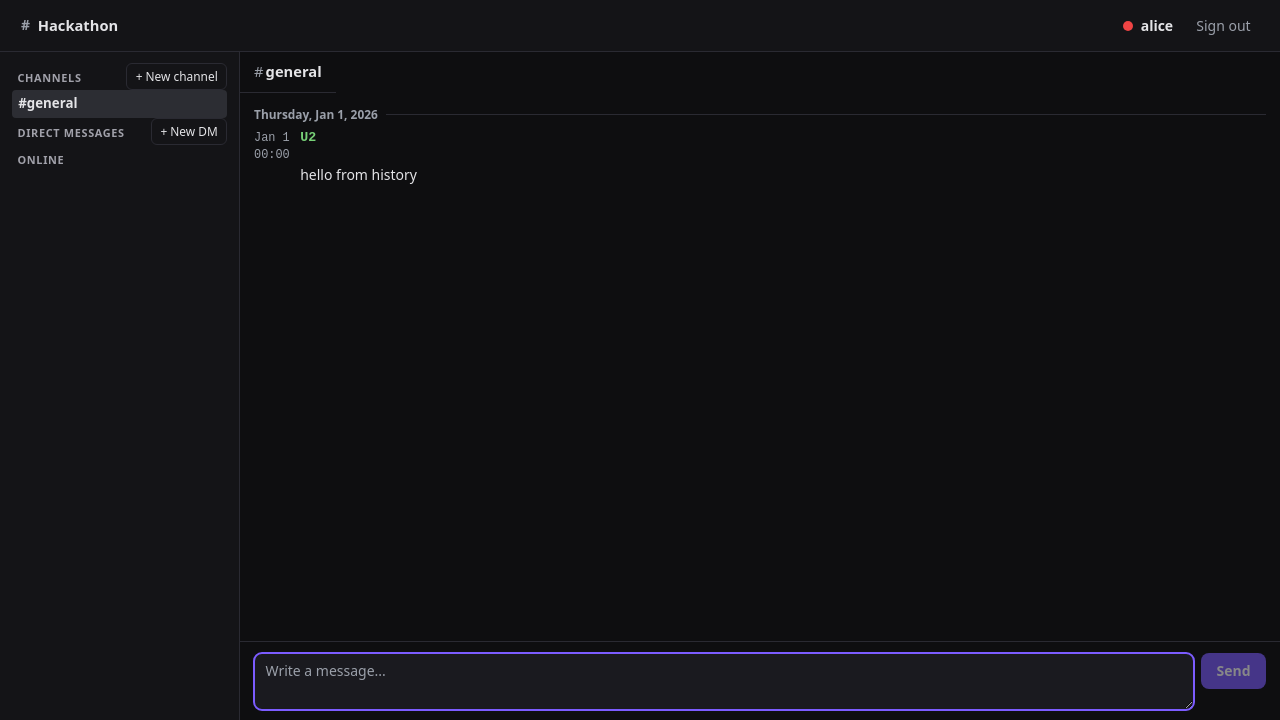
Test: test_web_composer_failed_message_badge_renders_on_post_failure › post failure surfaces the failed badge with retry control
Step 1. Type "doomed" into the text box labelled "message" → coordinates (724, 681), box [254,653,1194,710]
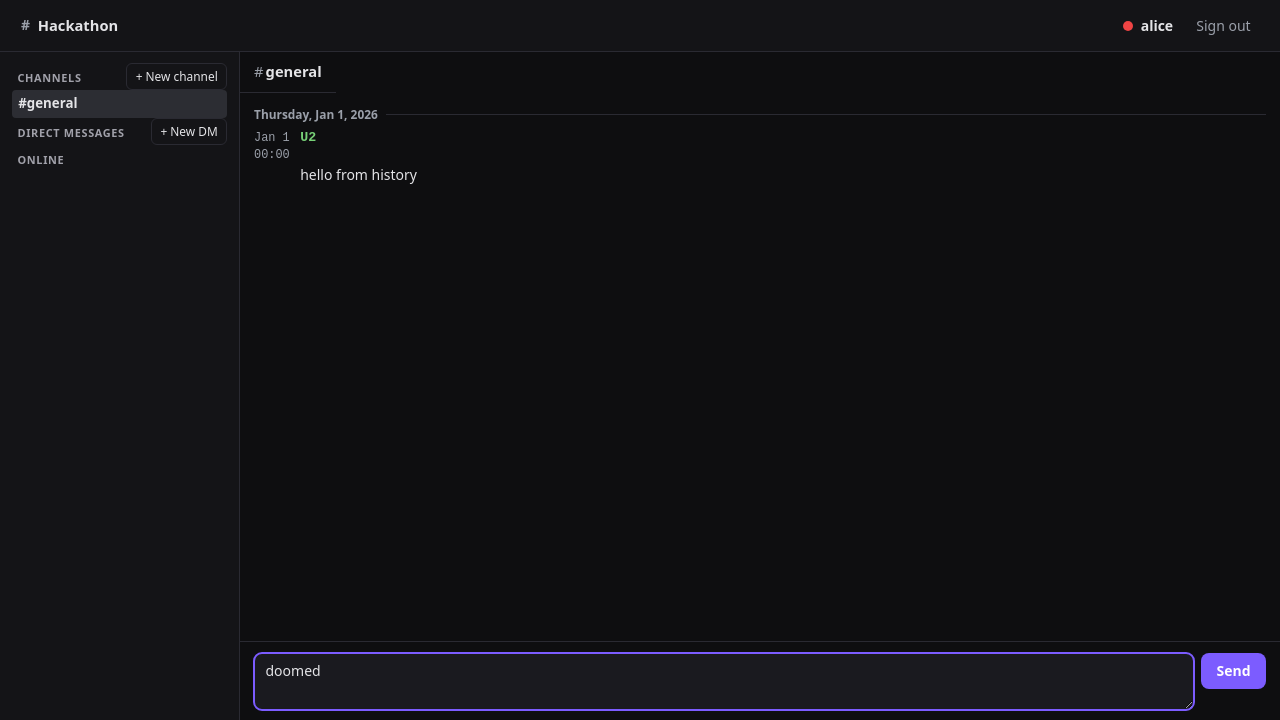
Step 2. Press Enter in the text box named "message", box [254,653,1194,710]
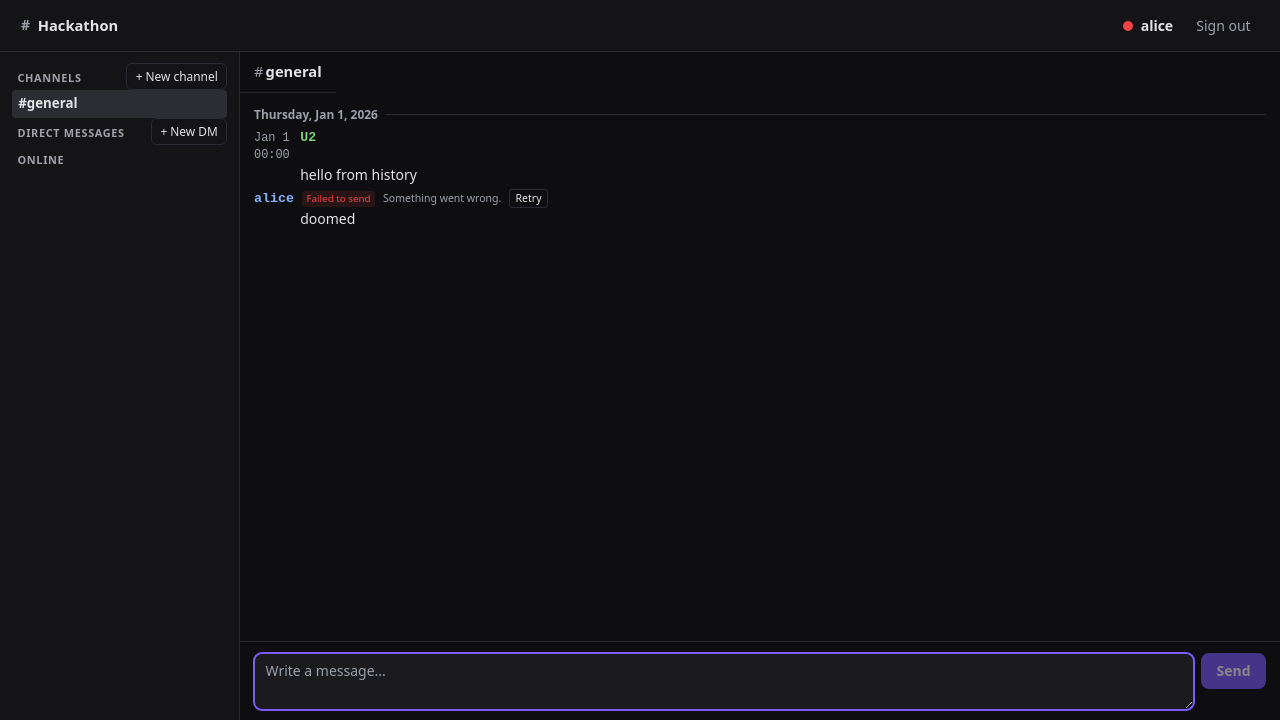
Now the message with test id "msg-failed-badge" reads "Failed to send", box [306,192,370,205]
Now the button "Retry" is shown, box [509,189,548,208]
